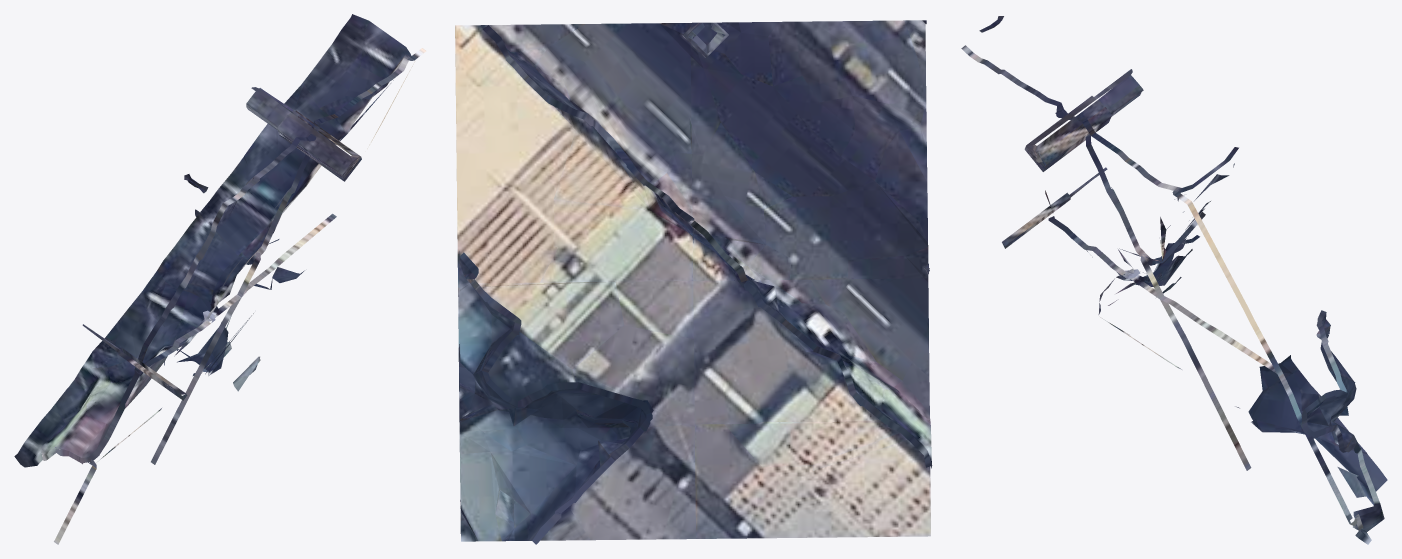
The picture shows the model from 3 angles, left to right: view 1: azimuth 30°, elevation 25°; view 2: azimuth 150°, elevation 25°; view 3: azimuth 270°, elevation 25°; orthographic projection. The views are drawn at different scales.
Bounding box in the file's own units: 40.07 × 37.49 × 34.17.
Materials: 1 (1 with a texture image).
